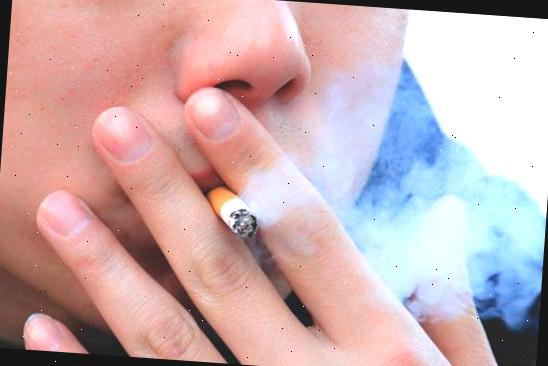smoke: (232, 7, 548, 315)
